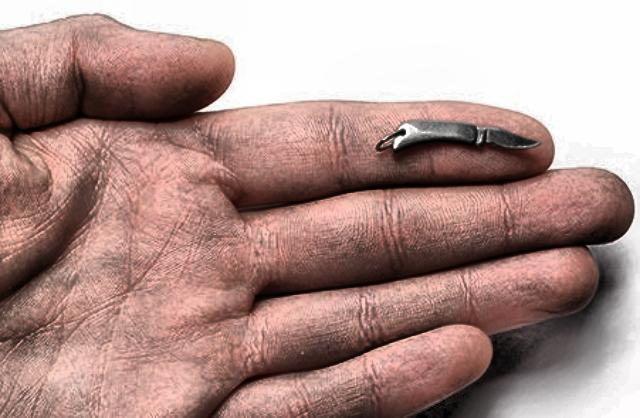knife: (444, 114, 556, 154)
